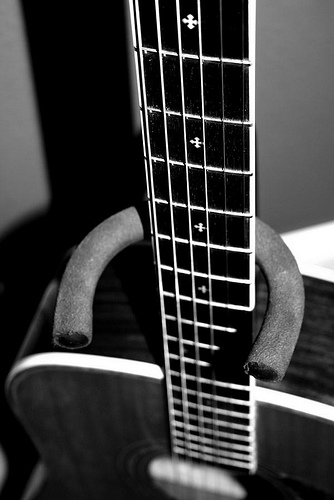guitar: (3, 1, 334, 500)
